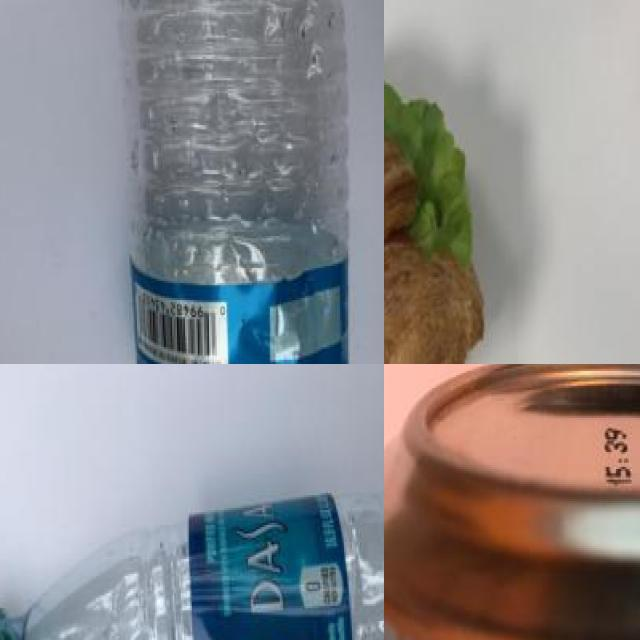compost: (384, 56, 515, 364)
plastic: (121, 0, 362, 364), (384, 364, 640, 640), (0, 490, 384, 640)
